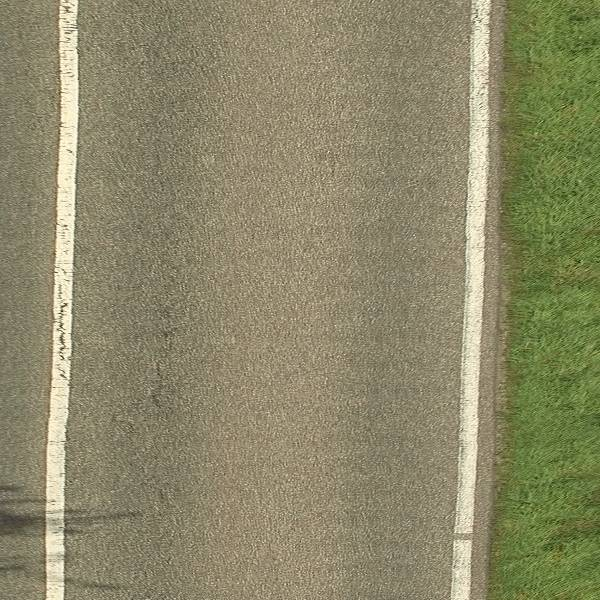road_damage: (142, 279, 181, 424)
